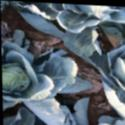cabbage: (2, 56, 37, 93)
